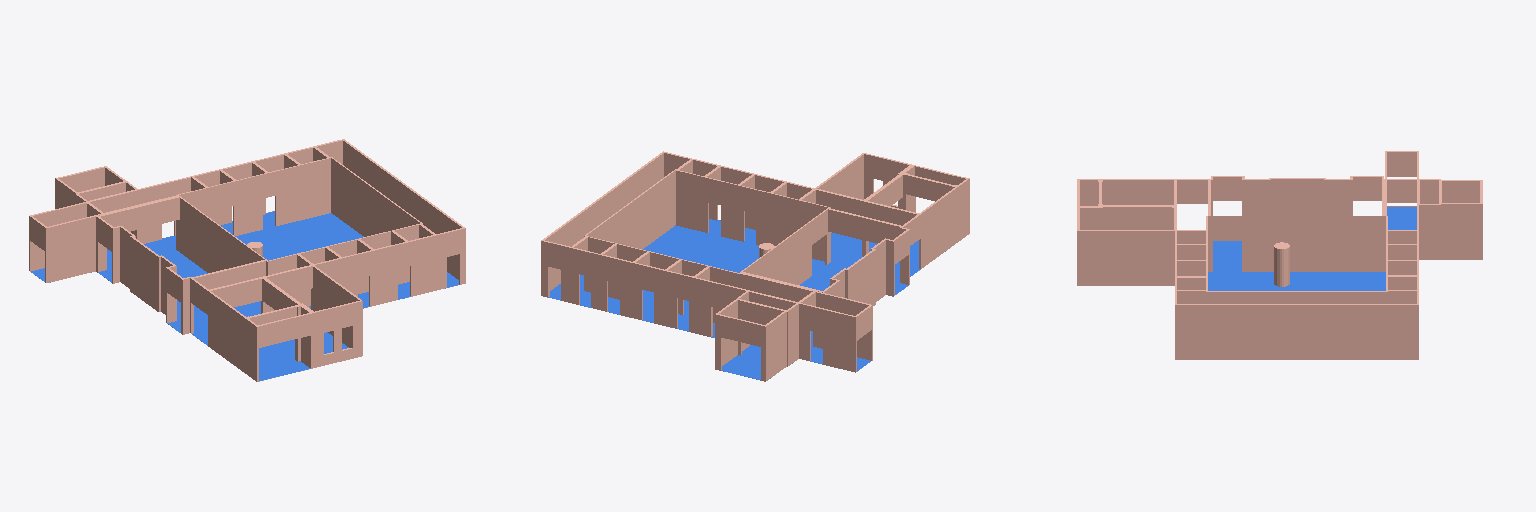
Rendered from floorplan.obj.
The picture shows the model from 3 angles: view 1: azimuth 30°, elevation 25°; view 2: azimuth 150°, elevation 25°; view 3: azimuth 270°, elevation 25°; orthographic projection.
Visible parts, largest first — view 1: floorplan; view 2: floorplan; view 3: floorplan.
Boxes of the visible parts, <box> form: floorplan: <box>29,139,465,381</box>; floorplan: <box>541,151,969,381</box>; floorplan: <box>1077,151,1482,359</box>.
Bounding box in the file's own units: 3.59 × 0.6053 × 4.